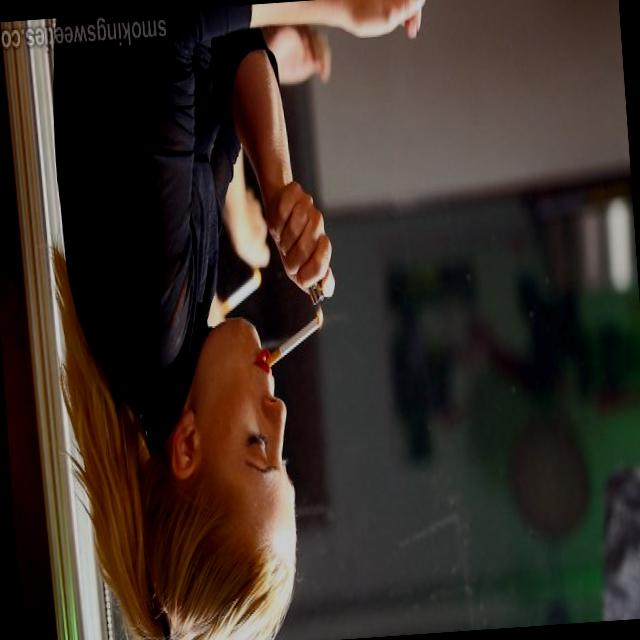smoke: (264, 306, 336, 363)
